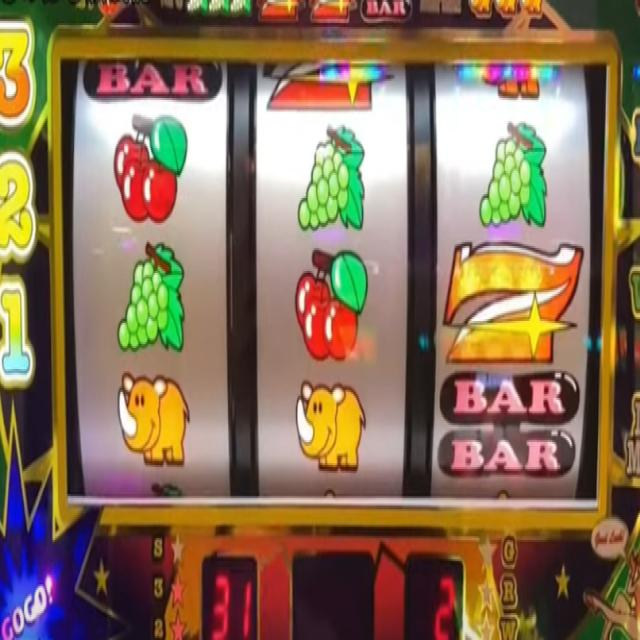bar: (437, 369, 581, 477), (83, 56, 223, 102), (359, 0, 414, 25)
cherry: (294, 246, 370, 361), (112, 113, 188, 224)
display: (57, 48, 603, 516)
elephant: (116, 370, 191, 464), (294, 378, 366, 474), (481, 67, 542, 101), (468, 0, 493, 19), (519, 0, 544, 17), (495, 0, 517, 19)
grape: (478, 119, 548, 234), (117, 240, 185, 357), (298, 121, 366, 235), (228, 0, 252, 16), (185, 0, 207, 17), (208, 0, 230, 16)
z: (443, 239, 585, 365), (262, 58, 394, 113), (308, 0, 358, 24), (256, 0, 304, 21)
